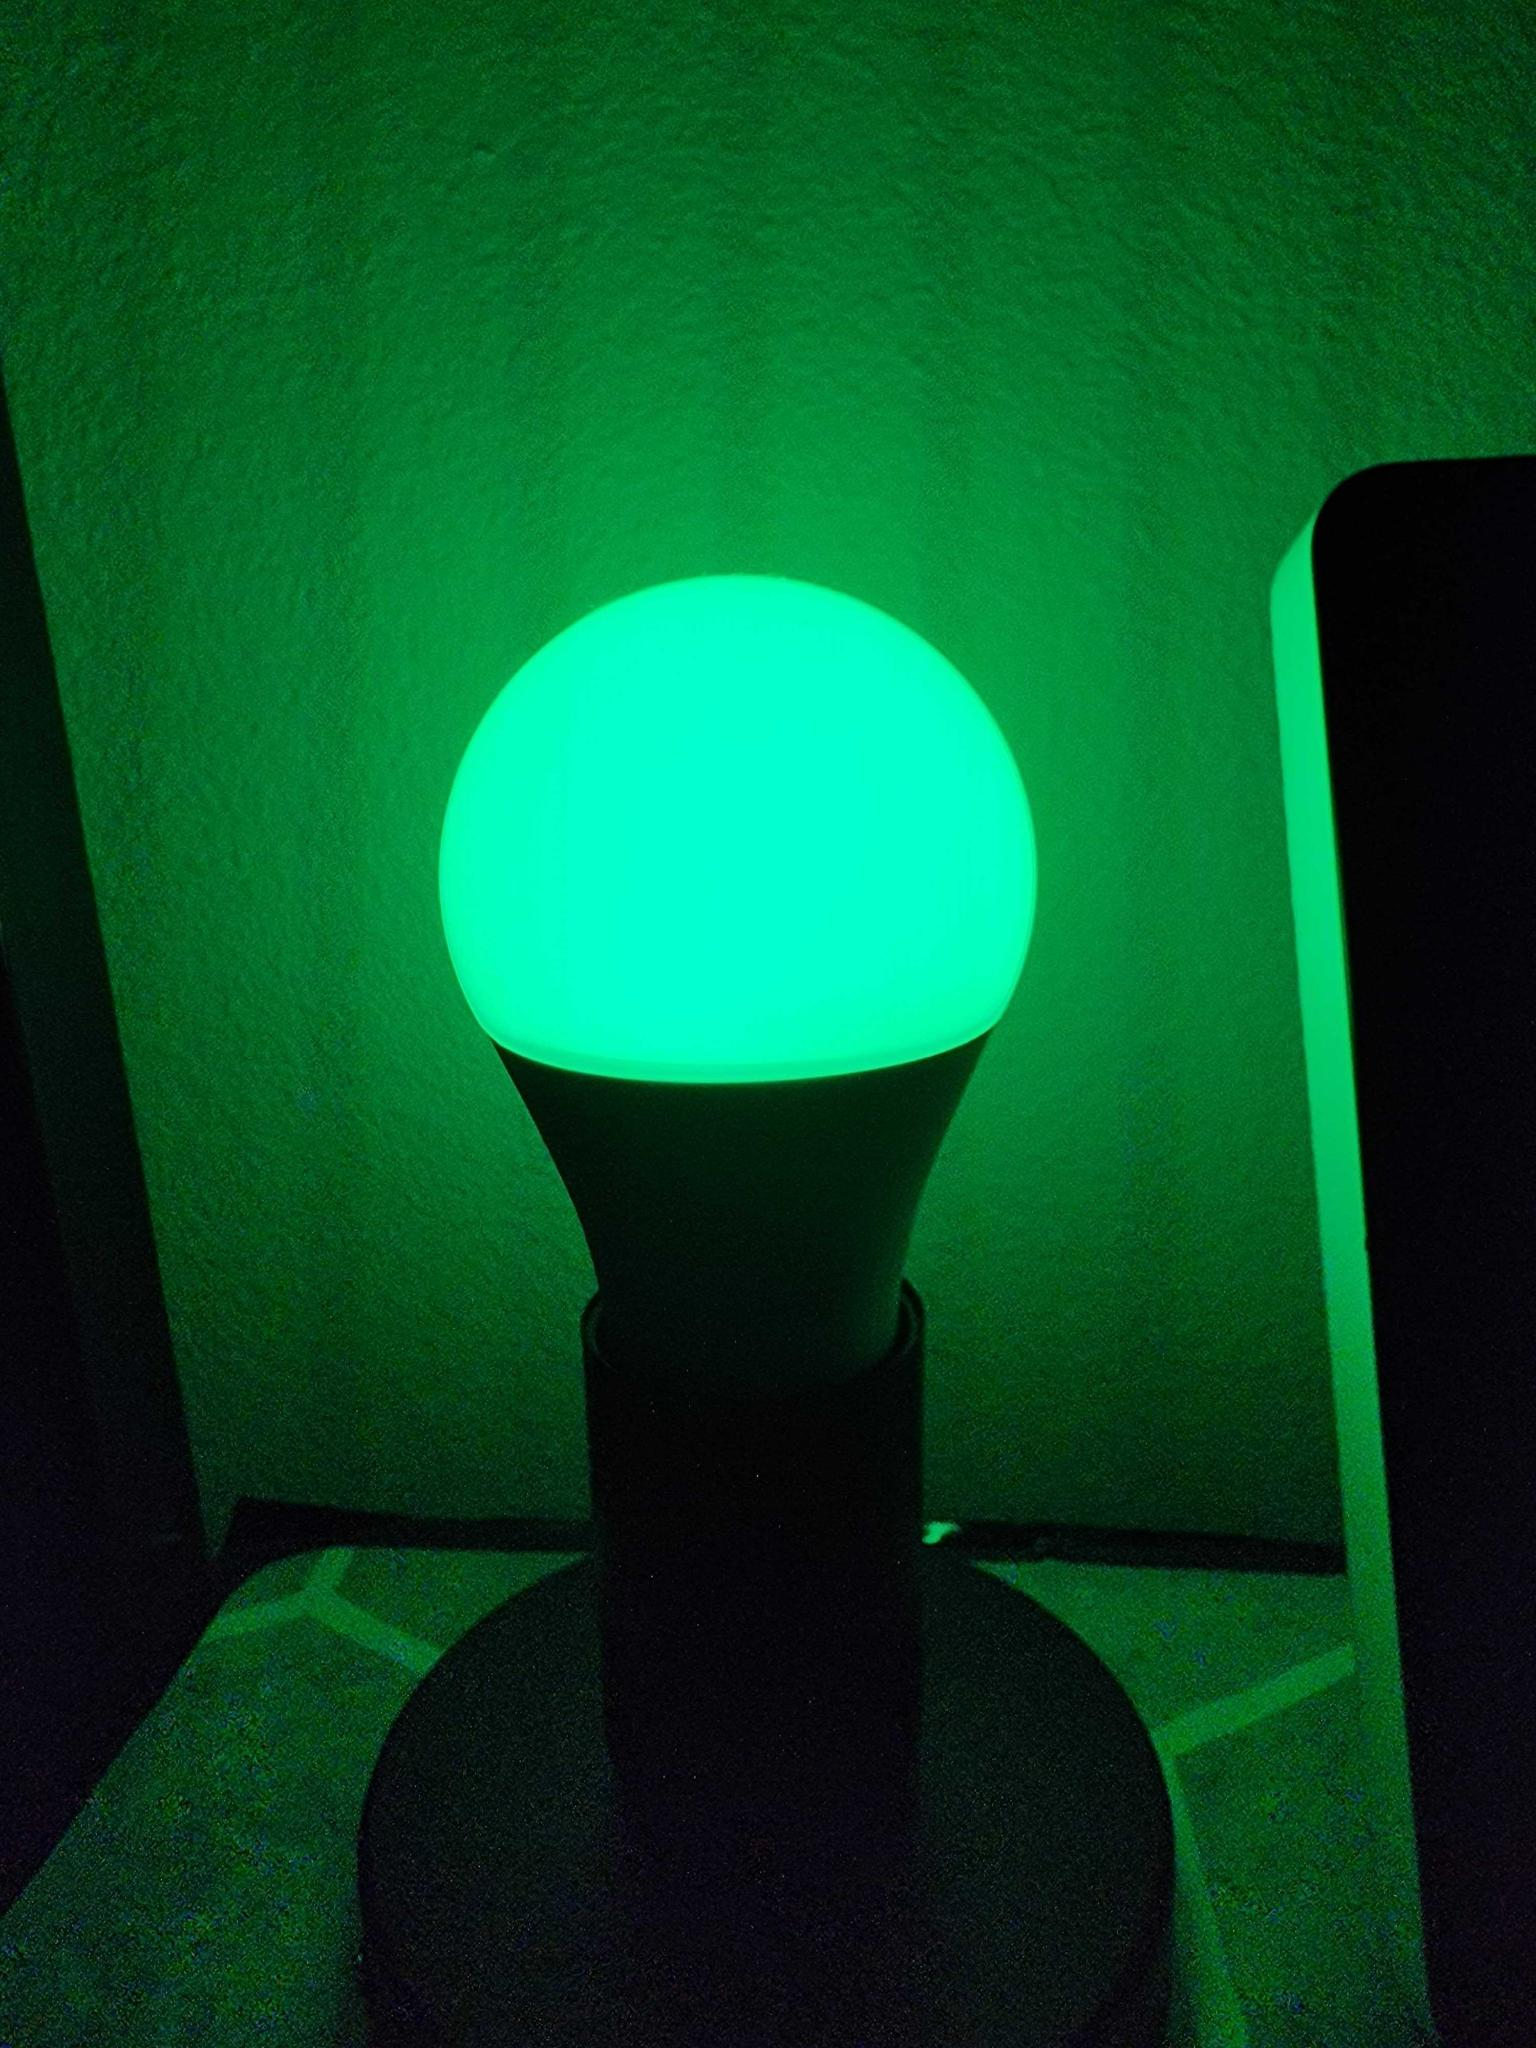TubeLight: (434, 571, 1037, 1666)
